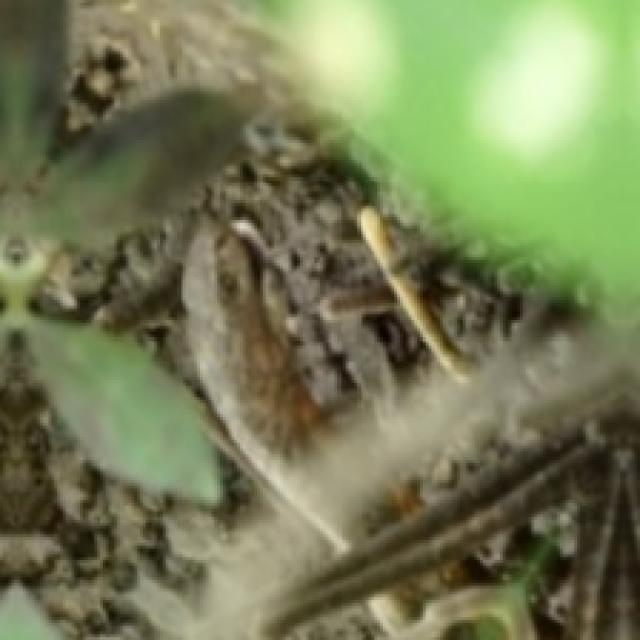king cobra: (181, 215, 360, 552)
